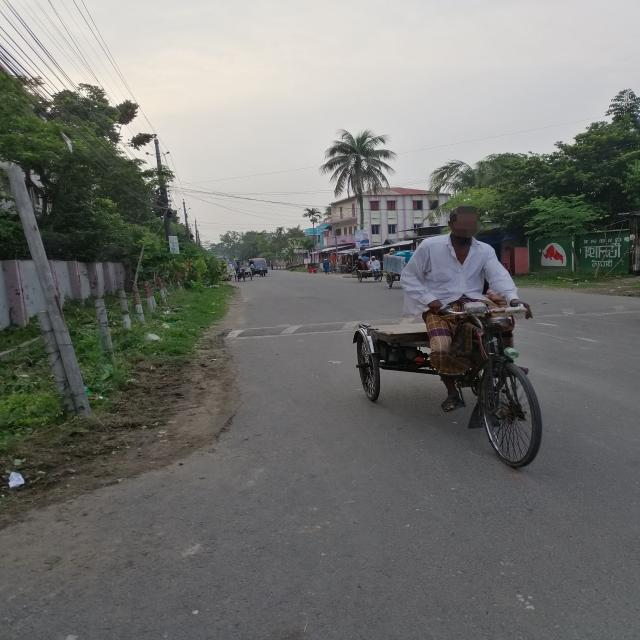Van: (351, 321, 560, 472)
